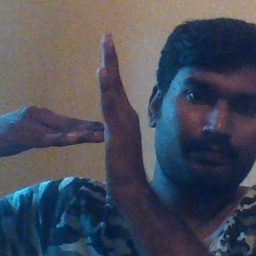Z: (14, 29, 149, 209)
